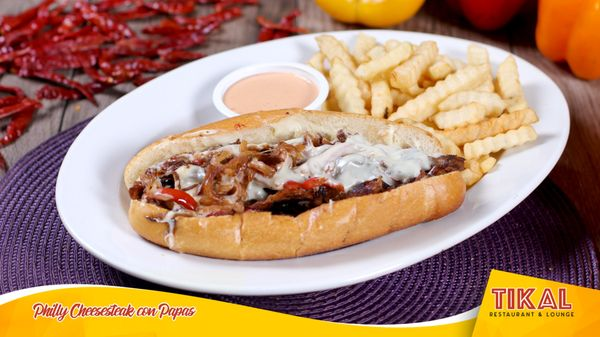sushi: (212, 61, 329, 119)
